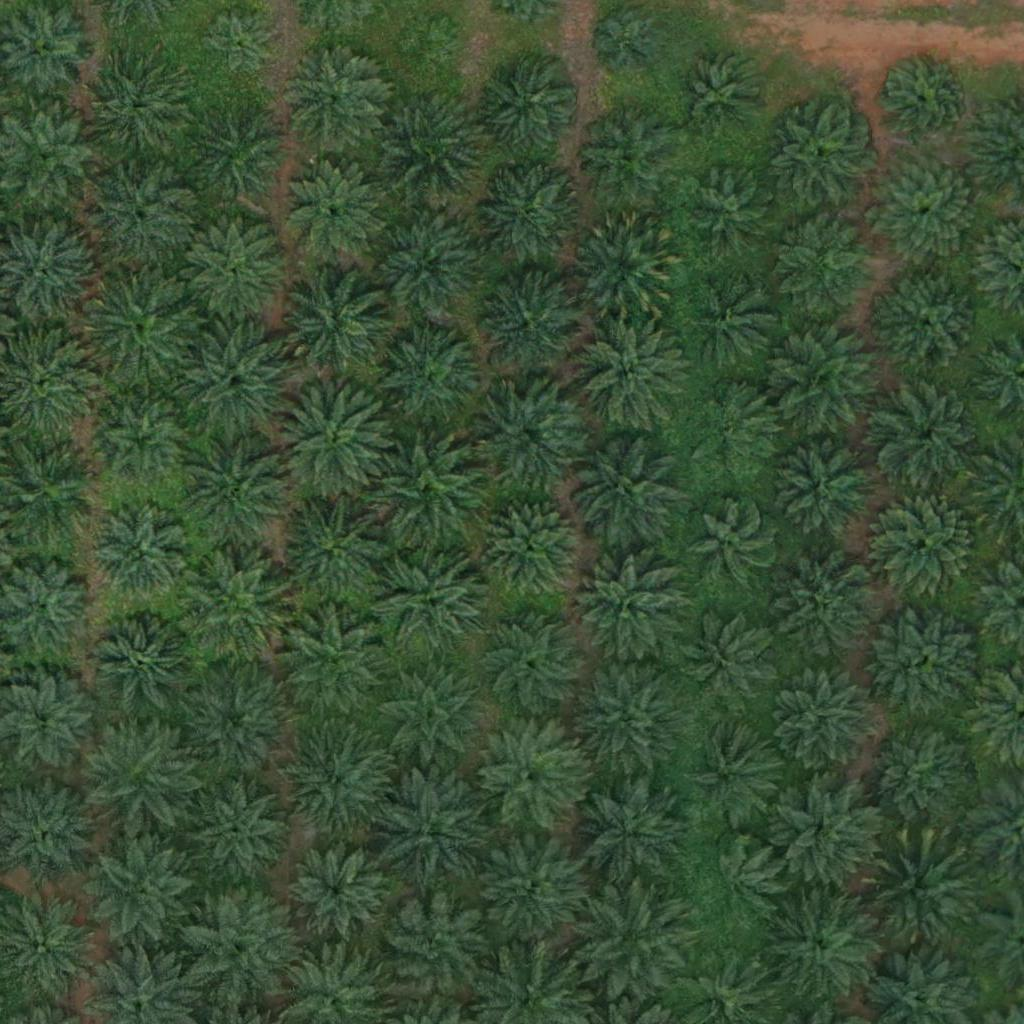Kelapa_Sawit: (181, 431, 294, 545), (279, 607, 392, 721), (870, 155, 983, 269), (874, 267, 987, 381), (474, 833, 587, 947), (372, 662, 485, 776), (374, 772, 487, 886), (282, 727, 395, 841), (568, 211, 681, 324), (471, 52, 584, 165), (85, 264, 198, 377), (182, 324, 295, 437), (276, 385, 389, 498), (278, 494, 391, 607), (572, 315, 685, 428), (567, 432, 680, 545), (571, 554, 684, 667), (769, 662, 882, 775), (771, 776, 884, 889), (762, 889, 875, 1002), (378, 893, 491, 1006), (86, 837, 199, 950), (182, 556, 294, 670), (575, 883, 687, 997), (472, 160, 584, 273), (373, 89, 485, 202), (371, 211, 483, 324), (83, 161, 195, 274), (178, 665, 290, 778), (279, 265, 391, 378), (369, 318, 481, 431), (368, 434, 480, 547), (376, 548, 488, 661), (471, 381, 583, 494), (475, 605, 587, 718), (574, 662, 686, 775), (772, 325, 884, 438), (770, 433, 882, 546), (874, 382, 986, 495), (873, 606, 985, 719), (864, 722, 976, 835), (863, 837, 975, 950), (573, 777, 685, 890), (473, 720, 585, 833), (178, 890, 290, 1003), (81, 719, 193, 832), (576, 108, 676, 209), (281, 47, 381, 148), (281, 158, 381, 259), (188, 103, 288, 204), (186, 219, 286, 320), (83, 59, 183, 160), (95, 617, 195, 718), (477, 273, 577, 374), (480, 496, 580, 597), (778, 557, 878, 658), (876, 493, 976, 594), (683, 723, 783, 824), (287, 841, 387, 942), (189, 782, 289, 883), (90, 504, 190, 604), (769, 107, 869, 207), (782, 217, 882, 317), (676, 52, 764, 140), (96, 401, 184, 489), (687, 282, 775, 370), (692, 840, 780, 928), (692, 172, 779, 260), (691, 386, 778, 474), (686, 500, 773, 588), (687, 616, 774, 704), (877, 55, 964, 143), (199, 9, 274, 84), (594, 10, 657, 73), (396, 13, 458, 76)
